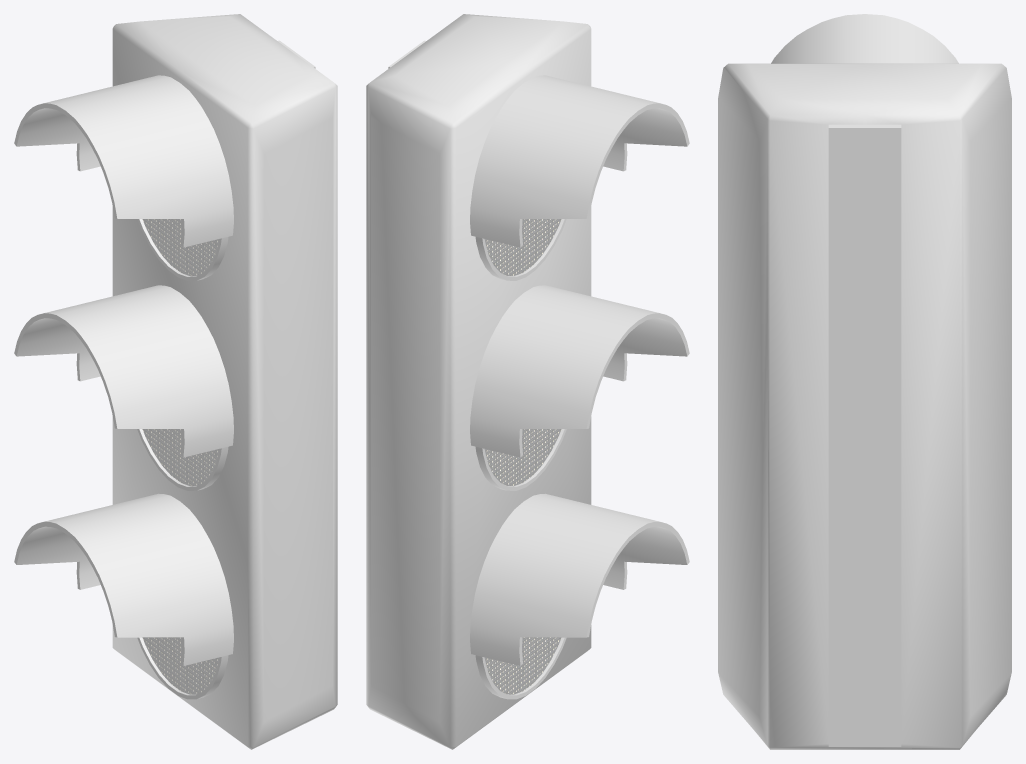
The model's file is 竖排右转灯.glb.
The picture shows the model from 3 angles, left to right: view 1: azimuth 30°, elevation 25°; view 2: azimuth 150°, elevation 25°; view 3: azimuth 270°, elevation 25°; orthographic projection.
Parts seen in each view (by area): view 1: 竖排右转灯; view 2: 竖排右转灯; view 3: 竖排右转灯.
Part boxes in pixels (x1,y1,x2,y2): 竖排右转灯: [14, 14, 337, 749]; 竖排右转灯: [366, 14, 689, 749]; 竖排右转灯: [718, 14, 1011, 749].
Size of the model in its own units: 0.6001 by 1.58 by 0.65.
2 materials, 1 textured.
